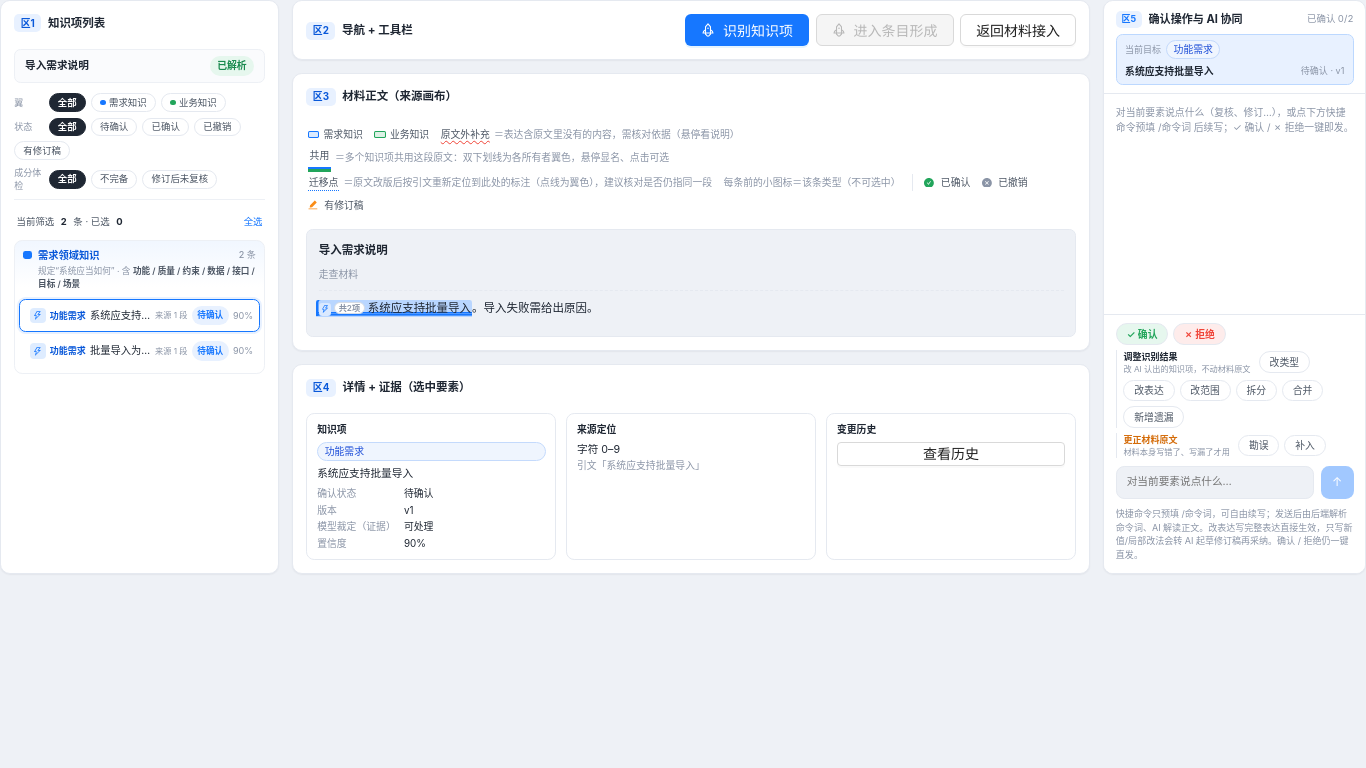
Test: 区3 画布交互修复（T20260721-analysis-canvas-interaction-fix） › K8：增量刷新（同上下文、要素 id 未换）不清掉正在读的气泡——后台结算不打断
The width and height of the screenshot is (1366, 768).
Click the button with class "canvas-highlight--overlap".
click(394, 308)  # box [316, 300, 472, 317]
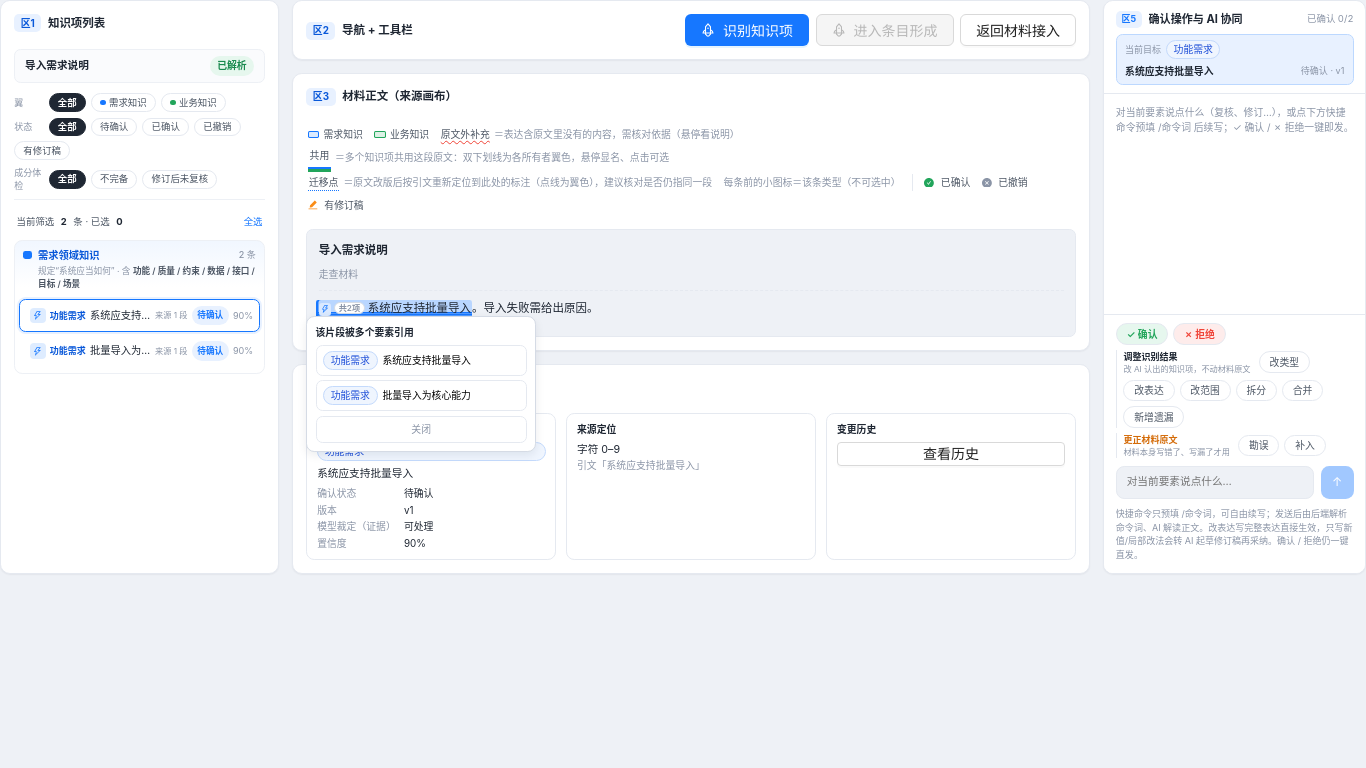
Expected: the element with class "analysis-overlap-popover" is shown, [306, 316, 536, 452]
Click the button "功能需求 系统应支持批量导入".
click(421, 360)  # box [316, 345, 527, 376]
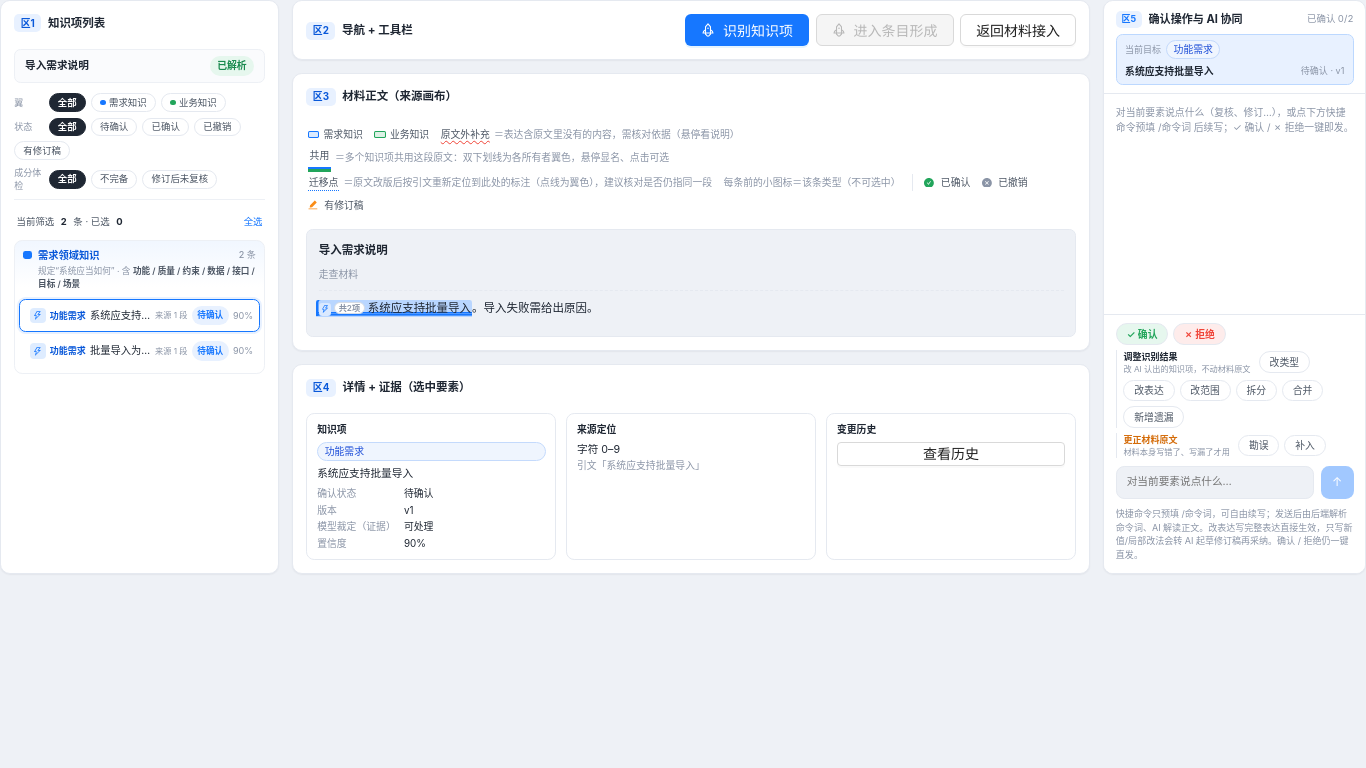
Expected: the element with class "analysis-overlap-popover" is gone
Click the button with class "canvas-highlight--overlap".
click(394, 308)  # box [316, 300, 472, 317]
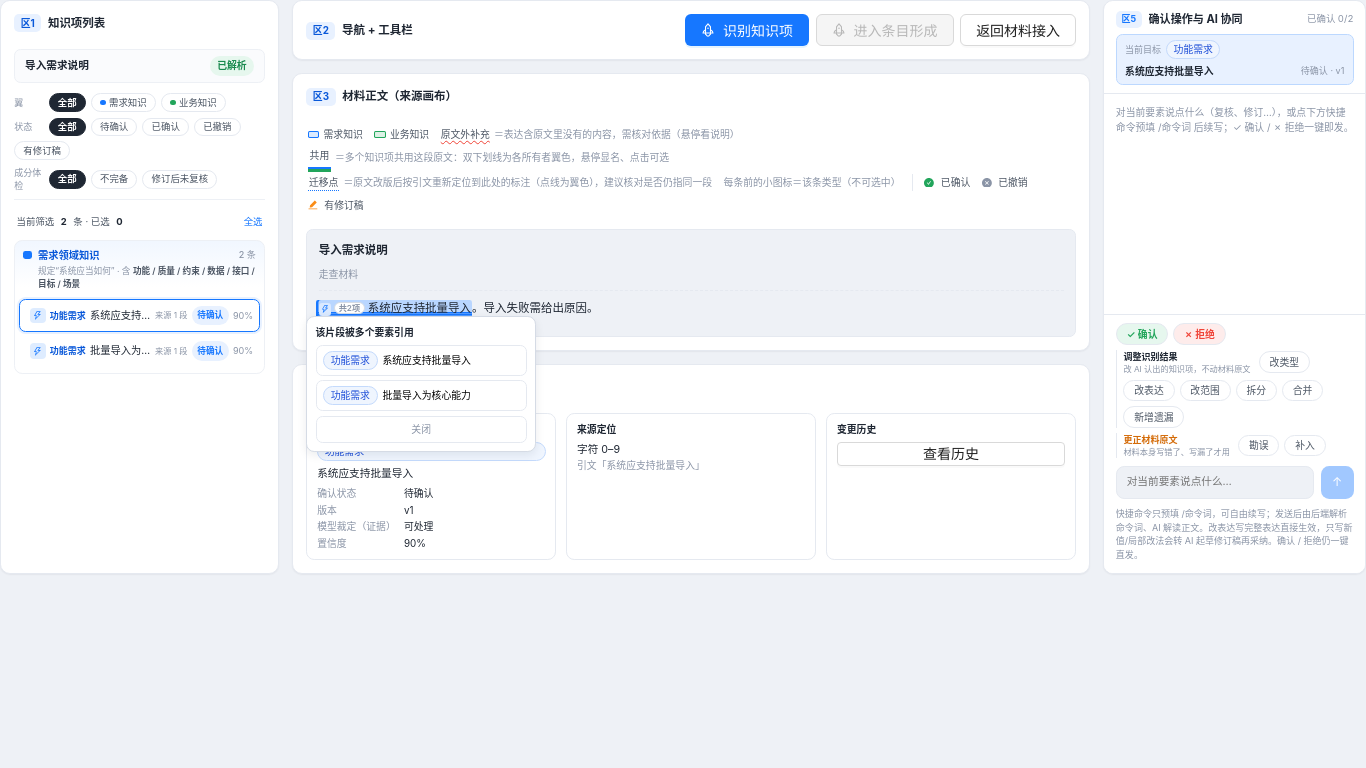
Expected: the element with class "analysis-overlap-popover" is shown, [306, 316, 536, 452]
Click the button with class "az5-qp--ok".
click(1142, 334)  # box [1116, 323, 1168, 345]
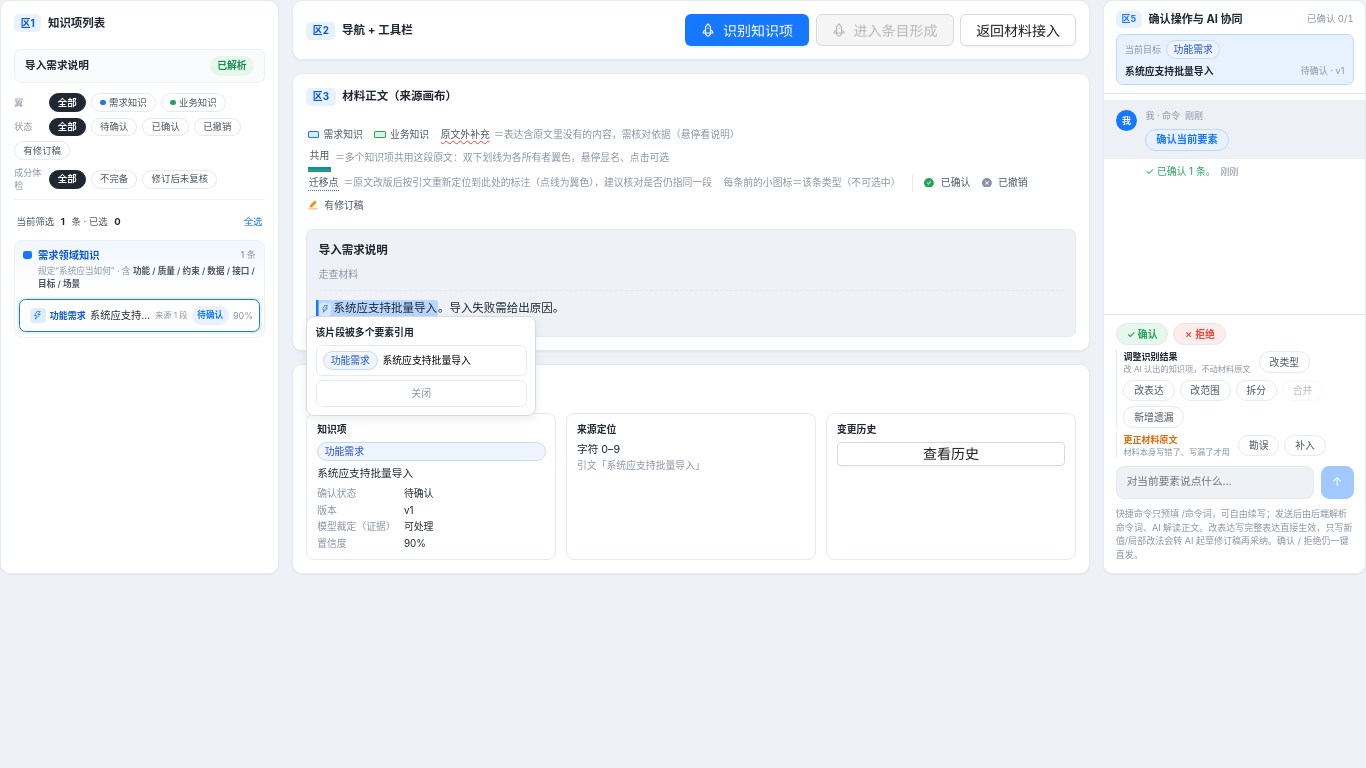
Expected: the element with class "analysis-overlap-popover" is shown, [306, 316, 536, 416]
Expected: the text "✓ 已确认 1 条。刚刚" is shown, [1145, 165, 1238, 177]
